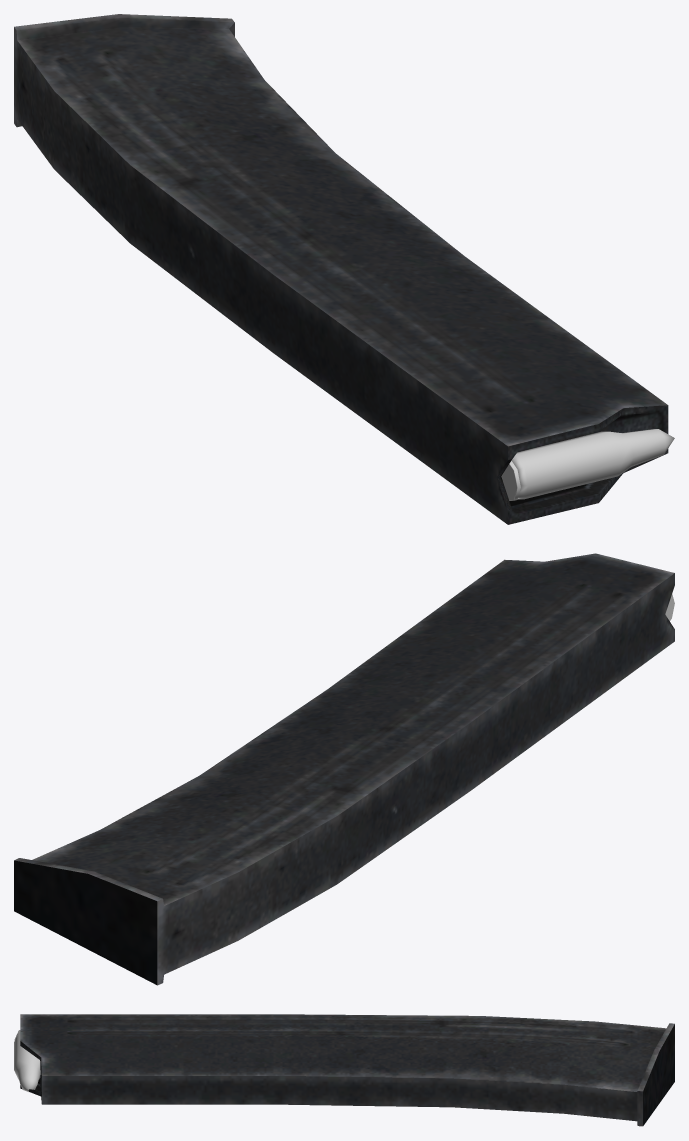
The model's file is t6_attach_fastmag_msmc_view_LOD0.obj.
The picture shows the model from 3 angles, top to bottom: view 1: azimuth 30°, elevation 25°; view 2: azimuth 150°, elevation 25°; view 3: azimuth 270°, elevation 25°; orthographic projection. The views are drawn at different scales.
Visible parts, largest first — view 1: mtl_t6_wpn_smg_msmc_camo1, mtl_t6_attach_bullet; view 2: mtl_t6_wpn_smg_msmc_camo1; view 3: mtl_t6_wpn_smg_msmc_camo1, mtl_t6_attach_bullet.
Boxes of the visible parts, x1,y1,x2,y2 form: mtl_t6_wpn_smg_msmc_camo1: [14, 14, 668, 524]; mtl_t6_attach_bullet: [501, 429, 674, 500]; mtl_t6_wpn_smg_msmc_camo1: [14, 553, 674, 985]; mtl_t6_wpn_smg_msmc_camo1: [20, 1014, 674, 1126]; mtl_t6_attach_bullet: [14, 1030, 40, 1091].
Bounding box in the file's own units: 5.09 × 1.95 × 20.06.
